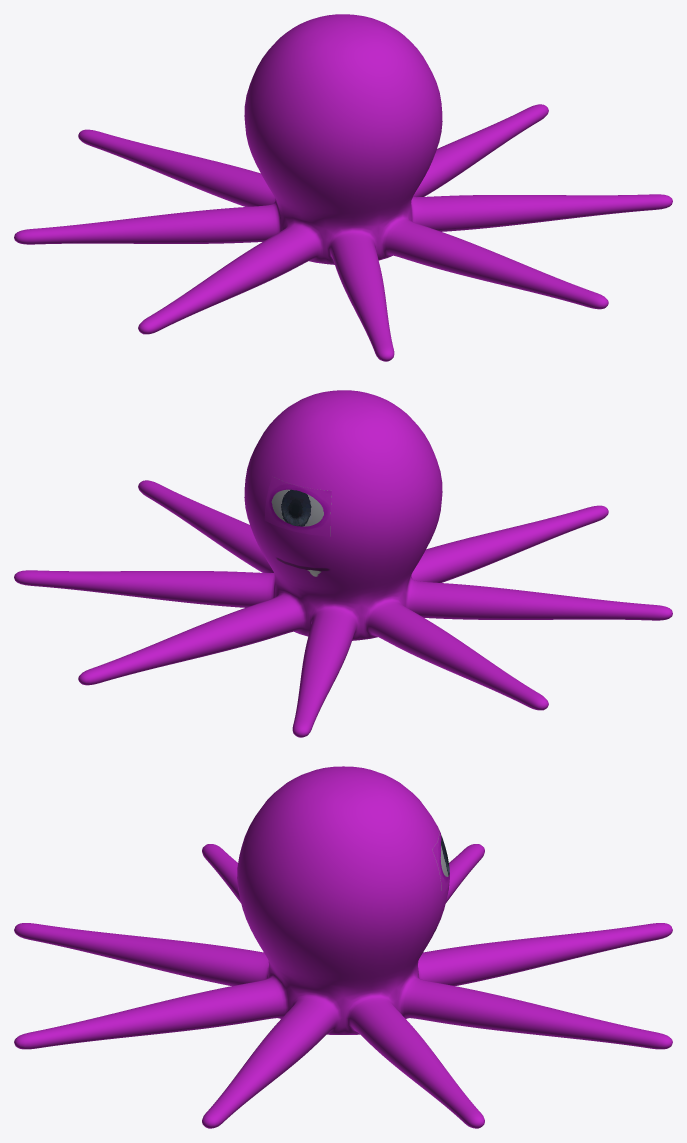
The model's file is octopus_test.FBX.
The picture shows the model from 3 angles, top to bottom: view 1: azimuth 30°, elevation 25°; view 2: azimuth 150°, elevation 25°; view 3: azimuth 270°, elevation 25°; orthographic projection. The views are drawn at different scales.
Parts seen in each view (by area): view 1: octomonster_body; view 2: octomonster_body; view 3: octomonster_body.
Boxes of the visible parts, <box> form: octomonster_body: <box>14,14,672,361</box>; octomonster_body: <box>14,390,672,737</box>; octomonster_body: <box>14,766,672,1128</box>.
Size of the model in its own units: 1.38 by 0.5359 by 1.38.
